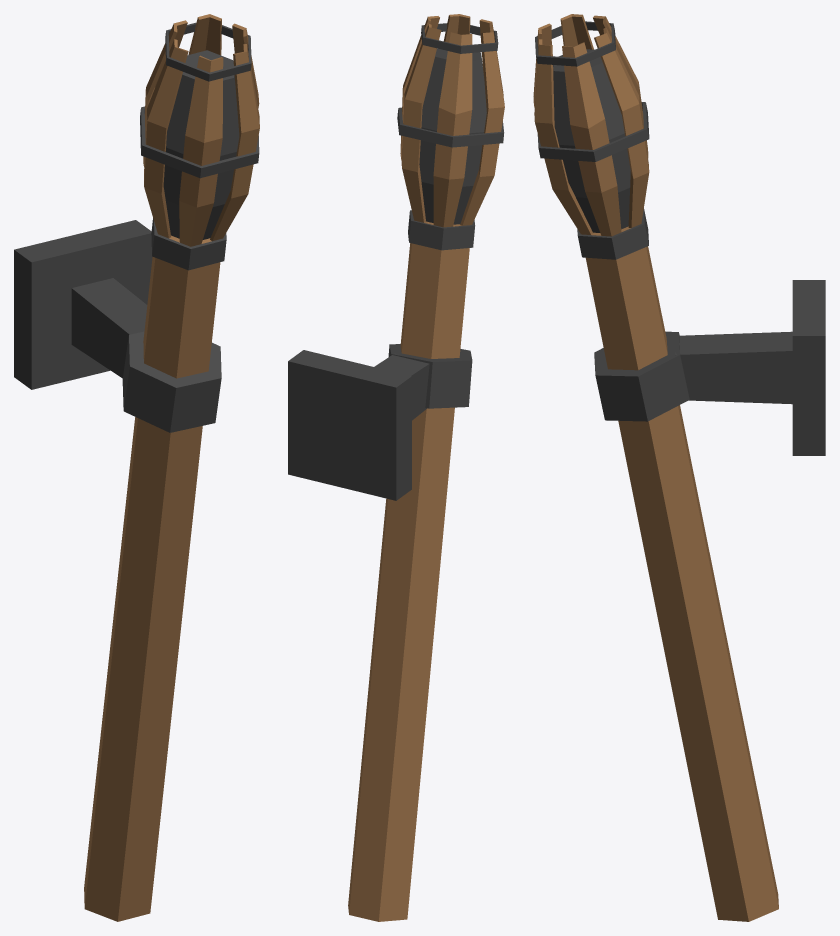
File: fire_torch.glb
3 views of the same model, side by side, from view 1: azimuth 30°, elevation 25°; view 2: azimuth 150°, elevation 25°; view 3: azimuth 270°, elevation 25° (orthographic). The views are drawn at different scales.
Visible parts, largest first — view 1: PP_Fire_Torch_New_01; view 2: PP_Fire_Torch_New_01; view 3: PP_Fire_Torch_New_01.
Boxes of the visible parts, x1,y1,x2,y2 form: PP_Fire_Torch_New_01: (14, 14, 259, 921); PP_Fire_Torch_New_01: (288, 14, 504, 921); PP_Fire_Torch_New_01: (533, 14, 825, 921).
Size of the model in its own units: 0.3788 by 2.8 by 0.8353.
Materials: 1 (1 with a texture image).
